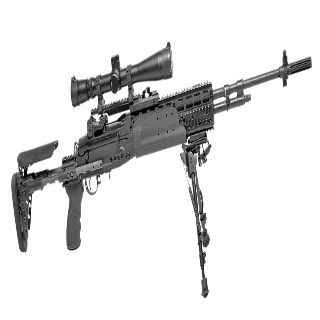rifle: (7, 33, 314, 253)
